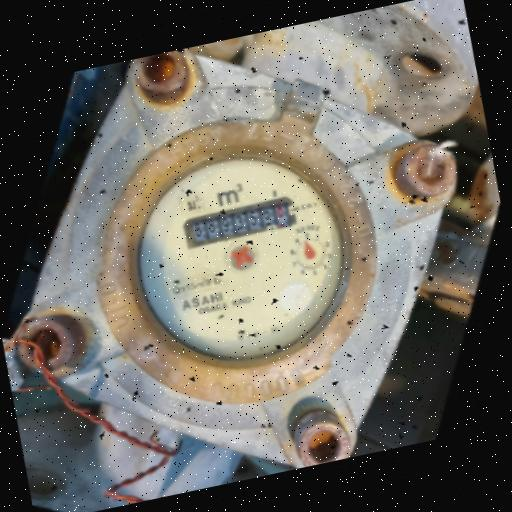3: (233, 209, 247, 231)
5: (246, 207, 261, 229)
6: (260, 204, 274, 226)
8: (273, 202, 288, 228), (190, 219, 207, 241), (205, 216, 220, 238)
9: (220, 214, 233, 235)
border_water_meter_number: (181, 194, 299, 249)
